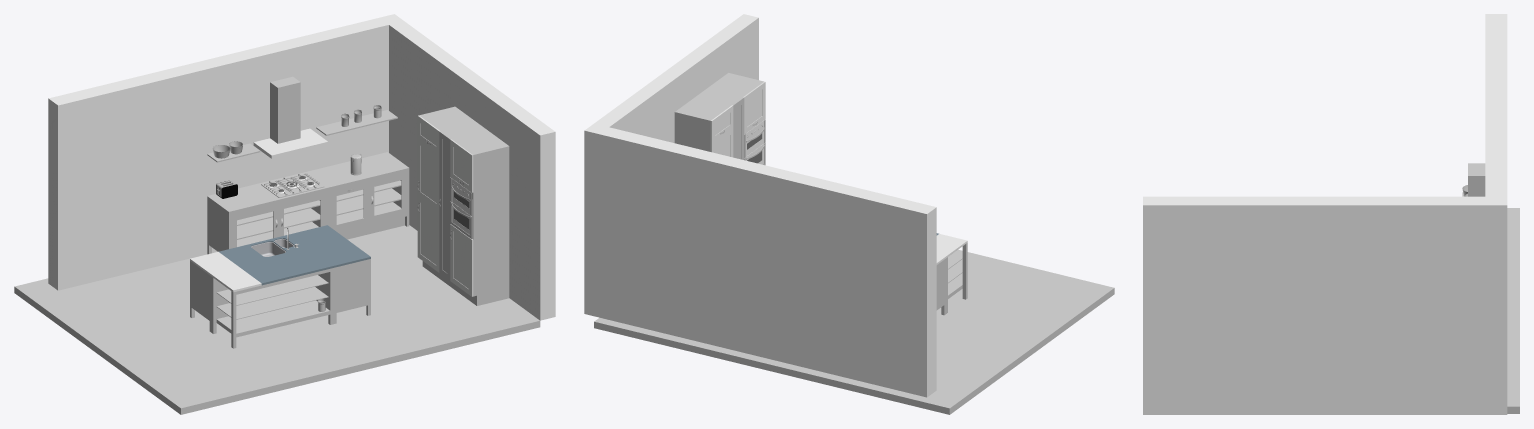
The model's file is kitchen.glb.
3 views of the same model, side by side, from view 1: azimuth 30°, elevation 25°; view 2: azimuth 150°, elevation 25°; view 3: azimuth 270°, elevation 25° (orthographic). The views are drawn at different scales.
Parts seen in each view (by area): view 1: Group_053, Group_145, Group_005, Group_006, Group_020, Group_021, Group_054, Group_004, Group_063, Group_088, Group_003, Group_077 (+13 smaller); view 2: Group_053, Group_145, Group_022, Group_021, Group_004, Group_005, Group_003, Group_006, Group_126; view 3: Group_053, Group_145, Group_088.
Part boxes in pixels (left/top/right/bottom): Group_053: left=48, top=14, right=555, bottom=320; Group_145: left=14, top=225, right=540, bottom=414; Group_005: left=452, top=130, right=509, bottom=305; Group_006: left=190, top=225, right=370, bottom=292; Group_020: left=216, top=275, right=330, bottom=334; Group_021: left=417, top=115, right=440, bottom=272; Group_054: left=207, top=152, right=409, bottom=213; Group_004: left=450, top=139, right=473, bottom=296; Group_063: left=237, top=200, right=320, bottom=246; Group_088: left=270, top=76, right=300, bottom=143; Group_003: left=439, top=131, right=450, bottom=280; Group_077: left=336, top=180, right=401, bottom=224; Group_053: left=584, top=14, right=936, bottom=397; Group_145: left=594, top=249, right=1114, bottom=414; Group_022: left=674, top=96, right=731, bottom=151; Group_021: left=710, top=105, right=733, bottom=157; Group_004: left=743, top=81, right=765, bottom=134; Group_005: left=707, top=73, right=763, bottom=97; Group_003: left=732, top=97, right=744, bottom=159; Group_006: left=936, top=233, right=967, bottom=264; Group_126: left=745, top=127, right=764, bottom=164; Group_053: left=1143, top=14, right=1507, bottom=414; Group_145: left=1507, top=208, right=1519, bottom=413; Group_088: left=1468, top=163, right=1485, bottom=196.
Size of the model in its own units: 5.99 by 2.93 by 4.61.
